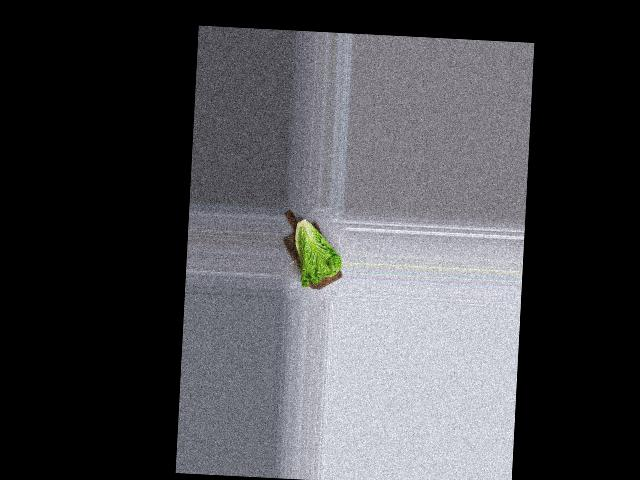lettuce: (285, 215, 343, 288)
